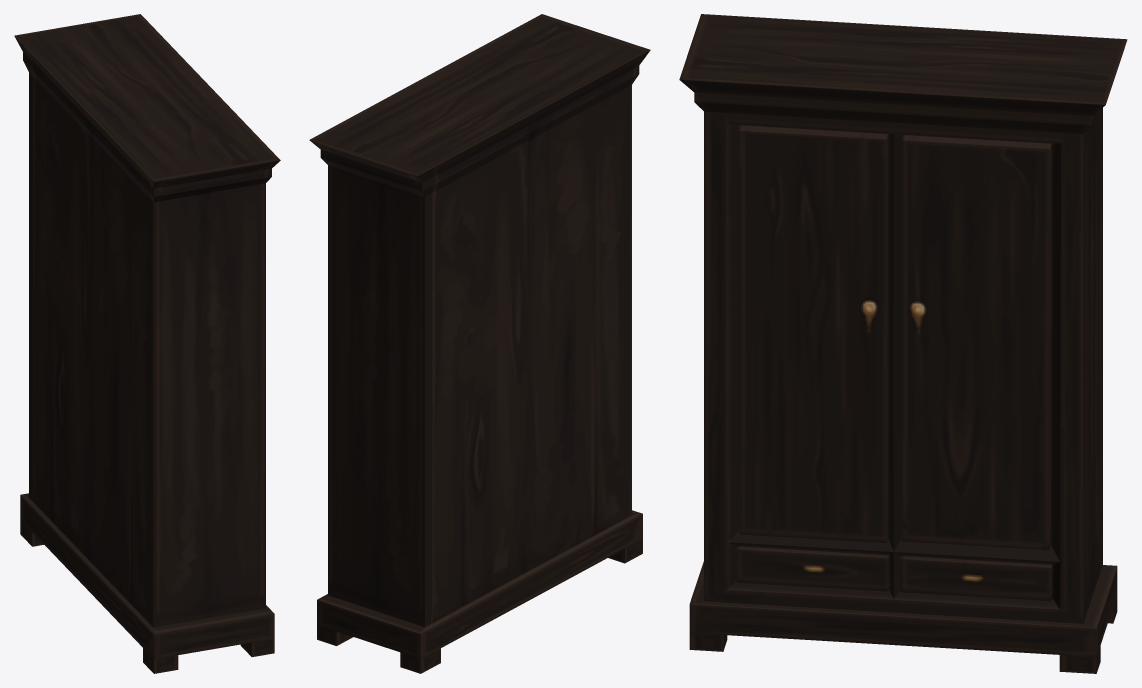
Rendered from Wardrobe01.fbx.
3 views of the same model, side by side, from view 1: azimuth 30°, elevation 25°; view 2: azimuth 150°, elevation 25°; view 3: azimuth 270°, elevation 25° (orthographic). The views are drawn at different scales.
Parts seen in each view (by area): view 1: Wardrobe01; view 2: Wardrobe01; view 3: Wardrobe01.
Part boxes in pixels (x1,y1,x2,y2): Wardrobe01: (14, 14, 280, 673); Wardrobe01: (309, 14, 650, 673); Wardrobe01: (679, 14, 1127, 673).
Size of the model in its own units: 1.95 by 5.69 by 4.05.
